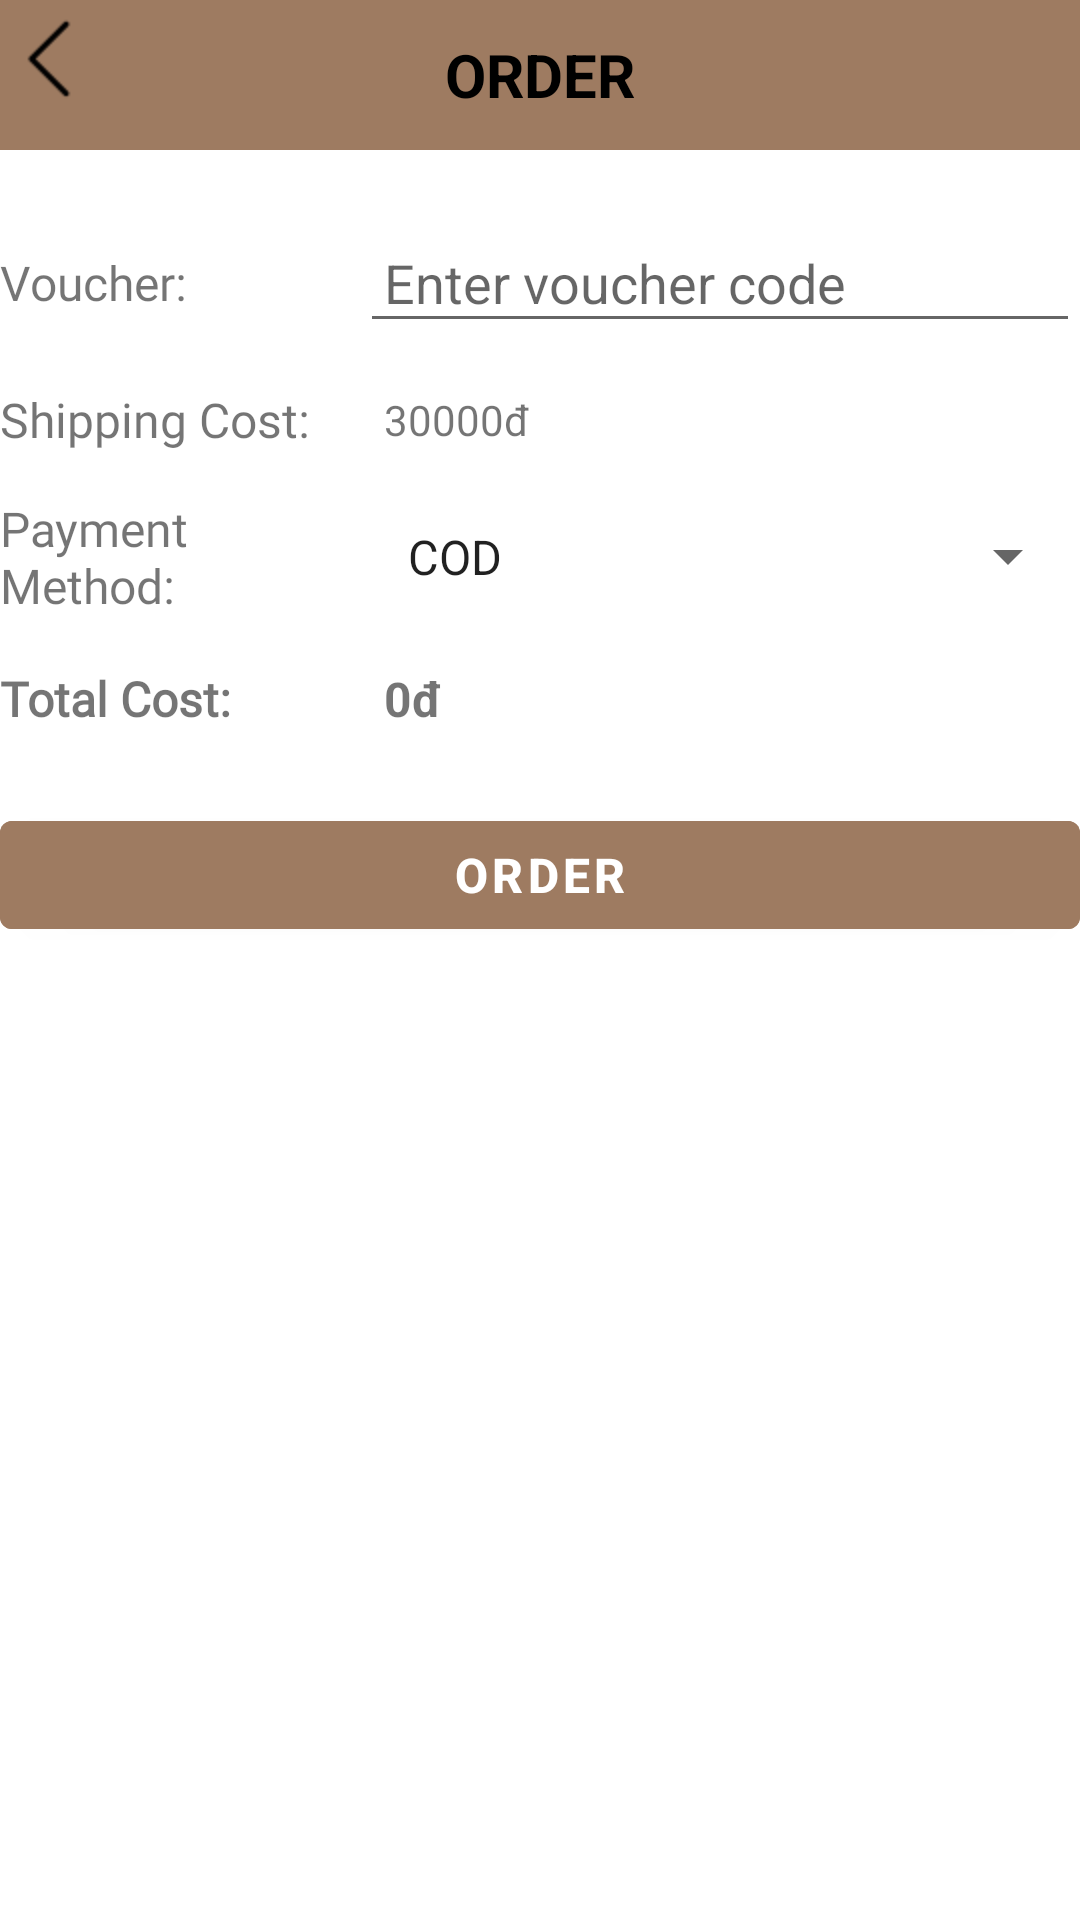

Screen size 1080×1920. Icon name, then its box in pixels as (x1, y1, x2, y2):
back: (28, 21, 70, 97)
